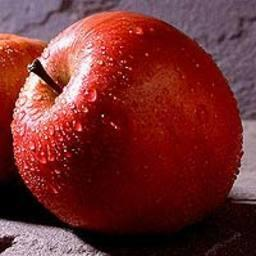apple: (7, 8, 243, 236)
